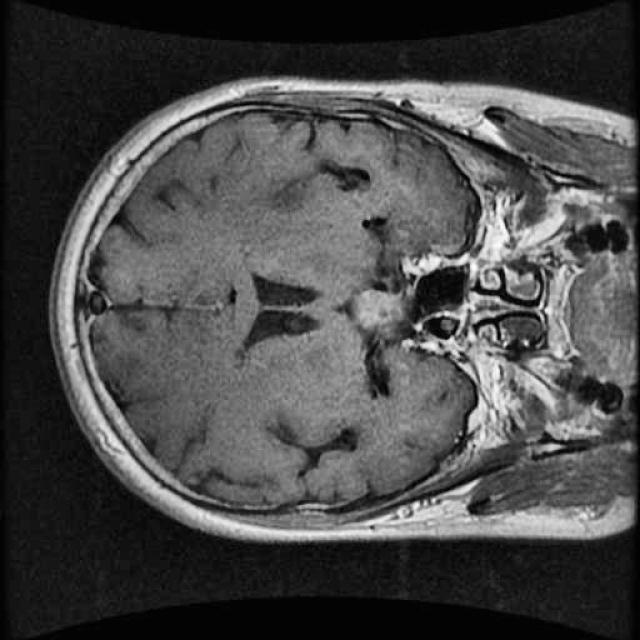Tumor: (336, 275, 419, 356)
